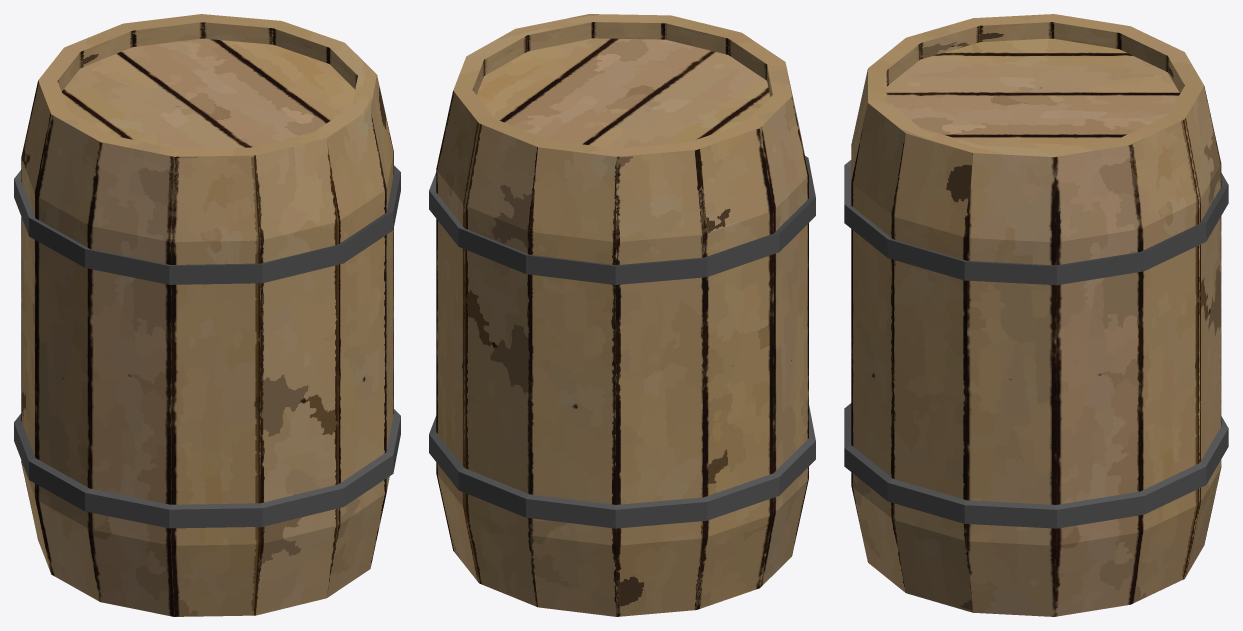
File: Barrel.fbx
The picture shows the model from 3 angles, left to right: view 1: azimuth 30°, elevation 25°; view 2: azimuth 150°, elevation 25°; view 3: azimuth 270°, elevation 25°; orthographic projection.
Parts seen in each view (by area): view 1: Cylinder; view 2: Cylinder; view 3: Cylinder.
Part boxes in pixels (x1,y1,x2,y2): Cylinder: (14, 14, 400, 616); Cylinder: (429, 14, 815, 616); Cylinder: (844, 14, 1228, 616).
Bounding box in the file's own units: 266 × 348 × 264.
